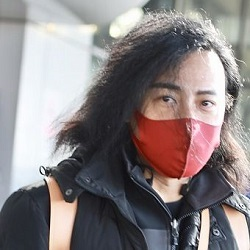mask: (111, 95, 227, 184)
